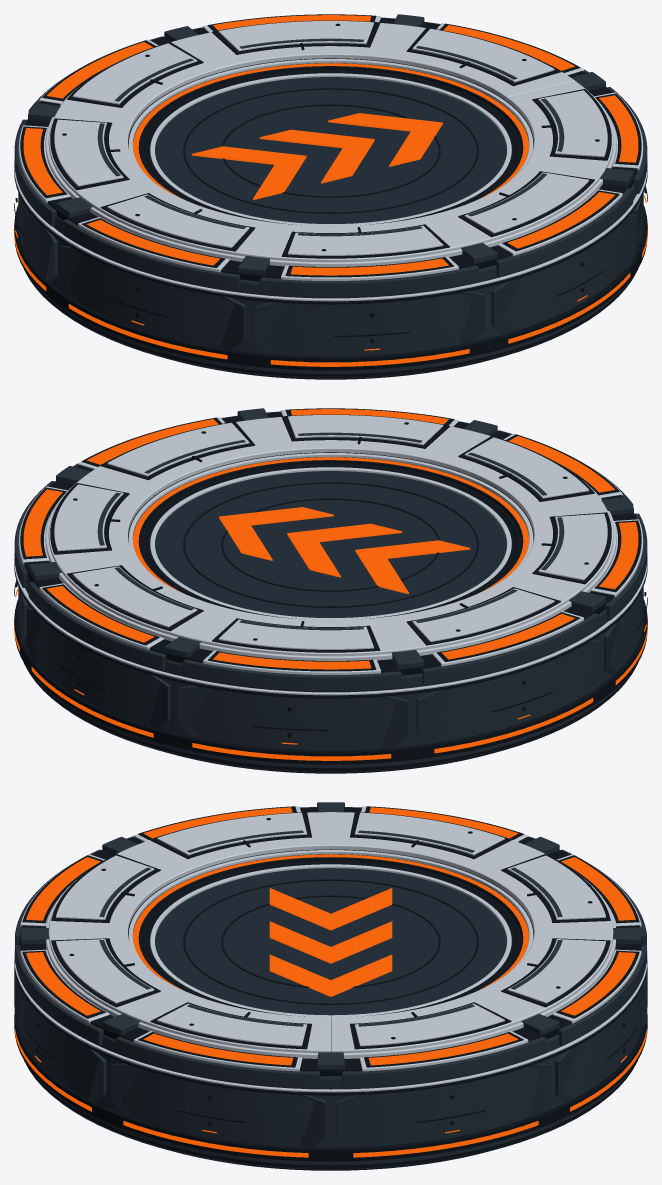
Rendered from Slider.glb.
3 renders of one model, top to bottom at view 1: azimuth 30°, elevation 25°; view 2: azimuth 150°, elevation 25°; view 3: azimuth 270°, elevation 25°, orthographic.
Visible parts, largest first — view 1: SM_Puck_Slider_Orange; view 2: SM_Puck_Slider_Orange; view 3: SM_Puck_Slider_Orange.
Part boxes in pixels (x1,y1,x2,y2): SM_Puck_Slider_Orange: (14,14,647,379); SM_Puck_Slider_Orange: (14,408,647,773); SM_Puck_Slider_Orange: (14,802,647,1170).
Bounding box in the file's own units: 0.8991 × 0.1833 × 0.8991.
